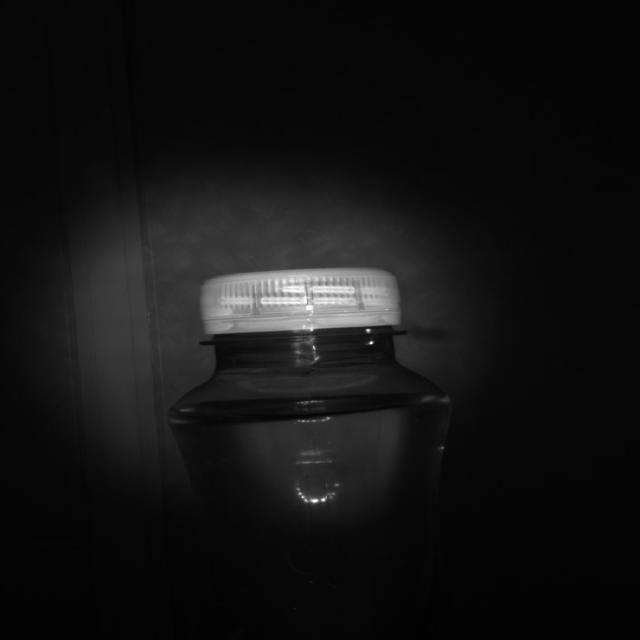Good: (199, 267, 401, 338)
